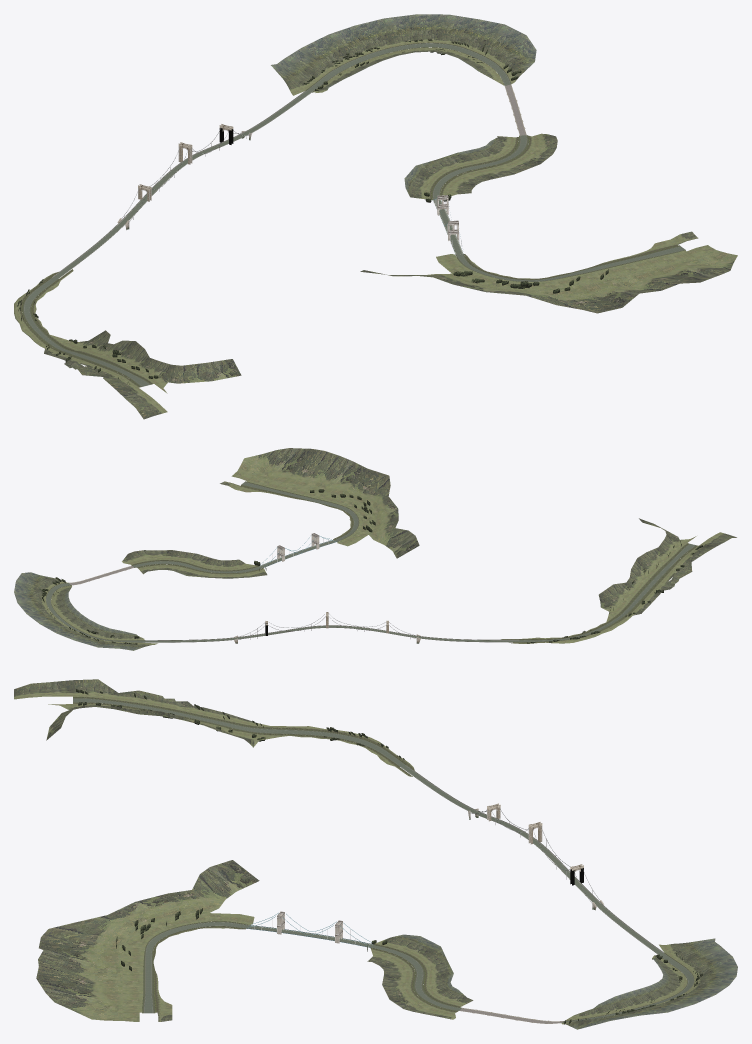
File: stage-lake-env.glb
3 views of the same model, one above another, from view 1: azimuth 30°, elevation 25°; view 2: azimuth 150°, elevation 25°; view 3: azimuth 270°, elevation 25° (orthographic). The views are drawn at different scales.
Visible parts, largest first — view 1: env part 1 chunk 5,-1, env part 1 chunk 6,-6, env part 1 chunk 0,-2, env part 1 chunk 5,-4, env part 1 chunk 5,-6, env part 0 chunk 2,-5, env part 0 chunk 5,-6, env part 1 chunk -1,-1, env part 0 chunk 0,-3, env part 0 chunk 6,-6, env part 0 chunk 3,-5, env part 0 chunk 4,-2; view 2: env part 1 chunk 5,-1, env part 1 chunk 0,-2, env part 1 chunk 5,-4, env part 1 chunk 6,-6, env part 1 chunk 5,-6, env part 1 chunk -1,-1, env part 0 chunk 2,-5, env part 0 chunk 4,-3, env part 0 chunk 3,-5, env part 0 chunk 4,-2, env part 0 chunk 0,-3, env part 0 chunk 5,-1 (+3 smaller); view 3: env part 1 chunk 5,-1, env part 1 chunk 5,-4, env part 1 chunk 0,-2, env part 1 chunk 6,-6, env part 1 chunk 5,-6, env part 1 chunk -1,-1, env part 0 chunk 0,-3, env part 0 chunk 3,-5, env part 0 chunk 4,-2, env part 0 chunk 4,-3, env part 0 chunk 2,-5, env part 0 chunk 6,-4 (+1 smaller).
Part boxes in pixels (bbox=[...]): env part 1 chunk 5,-1: bbox=[360, 245, 737, 313]; env part 1 chunk 6,-6: bbox=[271, 14, 536, 83]; env part 1 chunk 0,-2: bbox=[14, 269, 241, 415]; env part 1 chunk 5,-4: bbox=[404, 133, 557, 199]; env part 1 chunk 5,-6: bbox=[286, 35, 519, 95]; env part 0 chunk 2,-5: bbox=[120, 142, 188, 223]; env part 0 chunk 5,-6: bbox=[297, 46, 399, 98]; env part 1 chunk -1,-1: bbox=[64, 360, 153, 419]; env part 0 chunk 0,-3: bbox=[17, 284, 64, 348]; env part 0 chunk 6,-6: bbox=[398, 39, 494, 65]; env part 0 chunk 3,-5: bbox=[181, 124, 250, 164]; env part 0 chunk 4,-2: bbox=[444, 224, 516, 283]; env part 1 chunk 5,-1: bbox=[231, 448, 419, 558]; env part 1 chunk 0,-2: bbox=[501, 518, 729, 643]; env part 1 chunk 5,-4: bbox=[122, 550, 267, 578]; env part 1 chunk 6,-6: bbox=[14, 572, 146, 650]; env part 1 chunk 5,-6: bbox=[39, 579, 157, 645]; env part 1 chunk -1,-1: bbox=[660, 535, 736, 590]; env part 0 chunk 2,-5: bbox=[326, 614, 418, 639]; env part 0 chunk 4,-3: bbox=[257, 533, 319, 570]; env part 0 chunk 3,-5: bbox=[235, 612, 329, 639]; env part 0 chunk 4,-2: bbox=[295, 516, 375, 554]; env part 0 chunk 0,-3: bbox=[533, 612, 627, 642]; env part 0 chunk 5,-1: bbox=[261, 486, 345, 505]; env part 1 chunk 5,-1: bbox=[36, 860, 259, 1021]; env part 1 chunk 5,-4: bbox=[367, 934, 473, 1019]; env part 1 chunk 0,-2: bbox=[14, 687, 414, 776]; env part 1 chunk 6,-6: bbox=[565, 938, 737, 1029]; env part 1 chunk 5,-6: bbox=[561, 943, 703, 1024]; env part 1 chunk -1,-1: bbox=[14, 679, 192, 707]; env part 0 chunk 0,-3: bbox=[252, 727, 396, 759]; env part 0 chunk 3,-5: bbox=[528, 822, 601, 903]; env part 0 chunk 4,-2: bbox=[168, 908, 313, 937]; env part 0 chunk 4,-3: bbox=[277, 911, 381, 947]; env part 0 chunk 2,-5: bbox=[470, 803, 542, 842]; env part 0 chunk 6,-4: bbox=[413, 983, 512, 1018].
Bounding box in the file's own units: 2290 × 139 × 2097.
30 materials, 28 textured.
